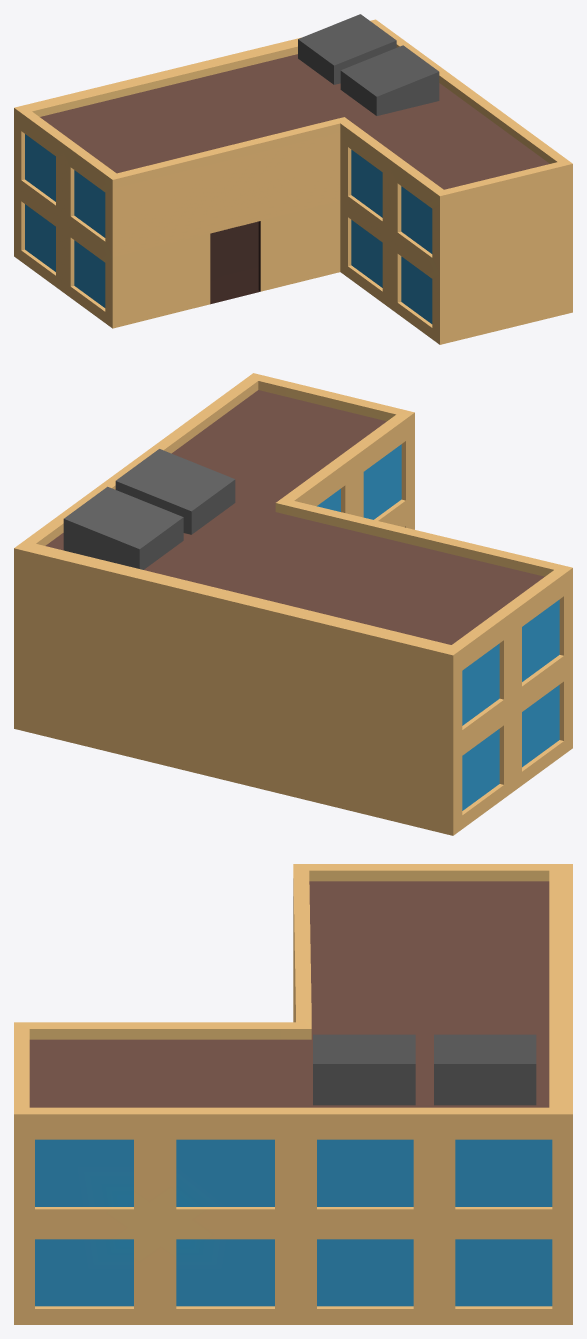
File: Building1.fbx
3 views of the same model, one above another, from view 1: azimuth 30°, elevation 25°; view 2: azimuth 150°, elevation 25°; view 3: azimuth 270°, elevation 25° (orthographic). The views are drawn at different scales.
Parts seen in each view (by area): view 1: Hospital; view 2: Hospital; view 3: Hospital.
Boxes of the visible parts, <box> form: Hospital: <box>14,14,572,344</box>; Hospital: <box>14,373,572,835</box>; Hospital: <box>14,864,572,1324</box>.
Bounding box in the file's own units: 1990 × 896 × 1879.
